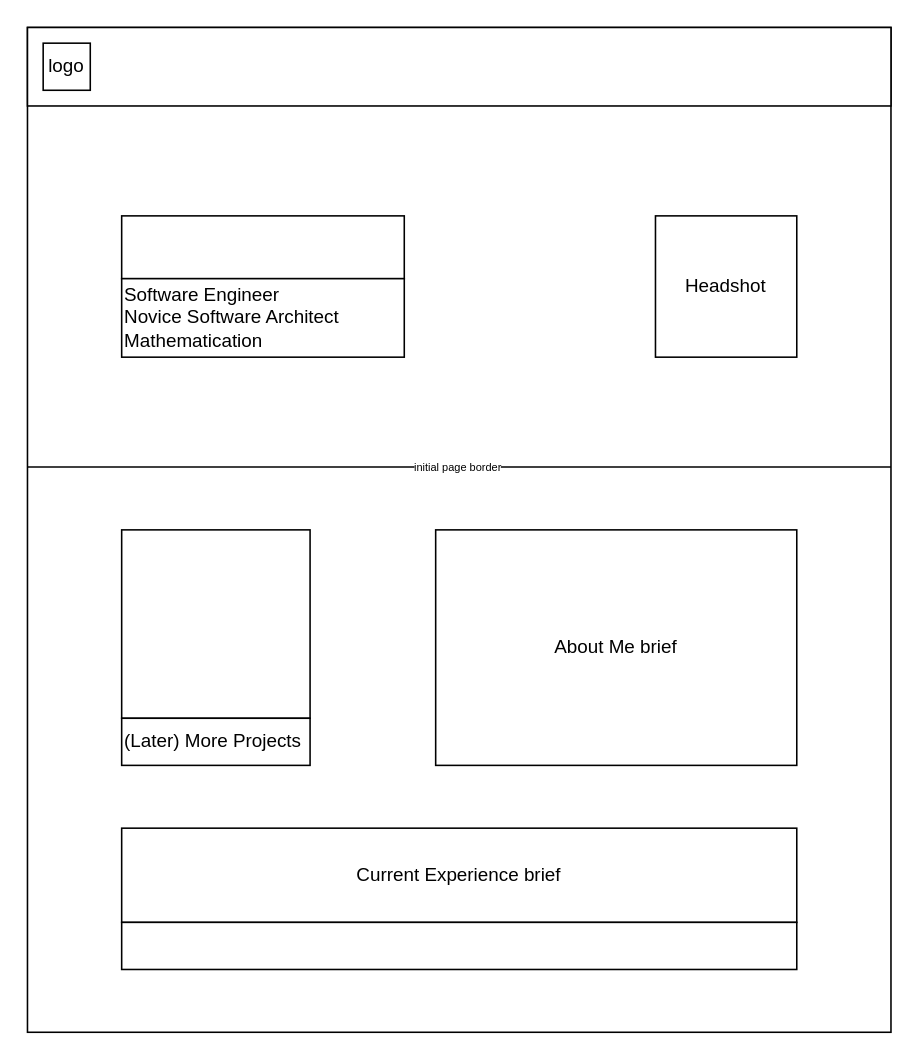
Some shapes in this 920 by 1060 pixel diagram are drawn without their labels. The shapes that lost their labels are listed below. From the top down, each one's centre as x and y in pixels, then its label:
At (262,246): "Mason Hicks".
At (215,623): "(Later) Project Link based on Clickthrough Rate".
At (458,945): "(Later) More Experience".
